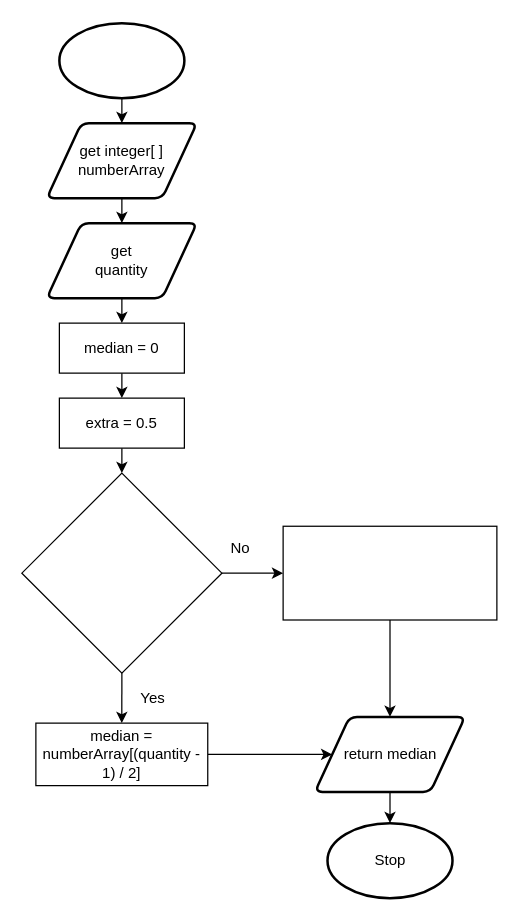
The diagram is 519 pixels wide and 920 high, and some of its shapes have lost their labels. The shapes that lost their labels are listed below. From the top down, each one's box as (x1, y1, x2, y2) in pixels, then its label:
(58, 21, 185, 99): Start
(21, 472, 222, 673): if quantity % 2 = 0
(282, 525, 497, 620): median = (numberArray[(quantity - 1) / 2] + numberArray[quantity / 2]) / 2
